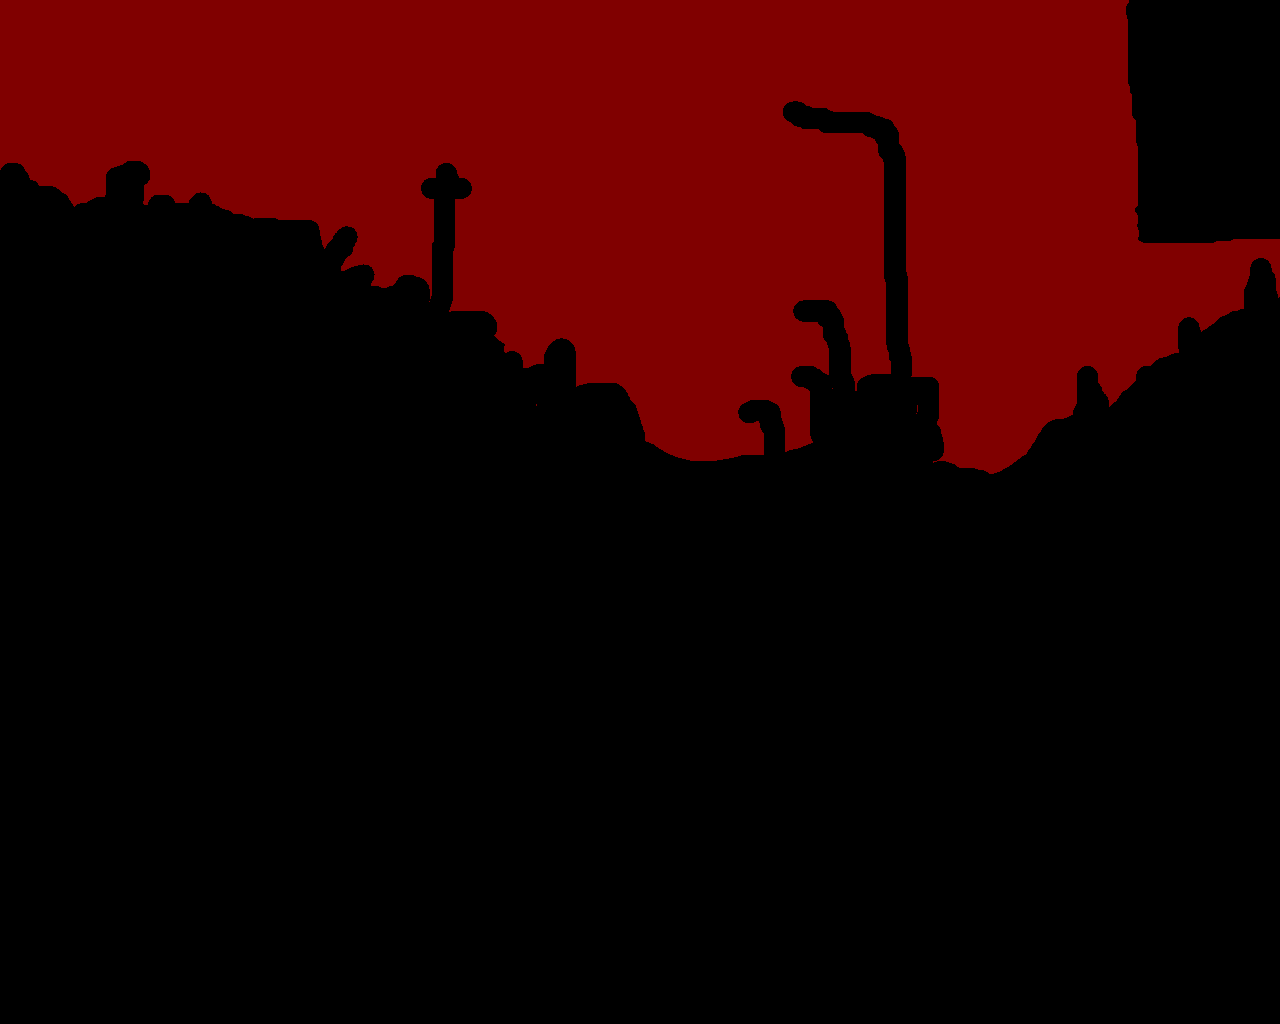Sky: (1, 1, 1279, 474)
